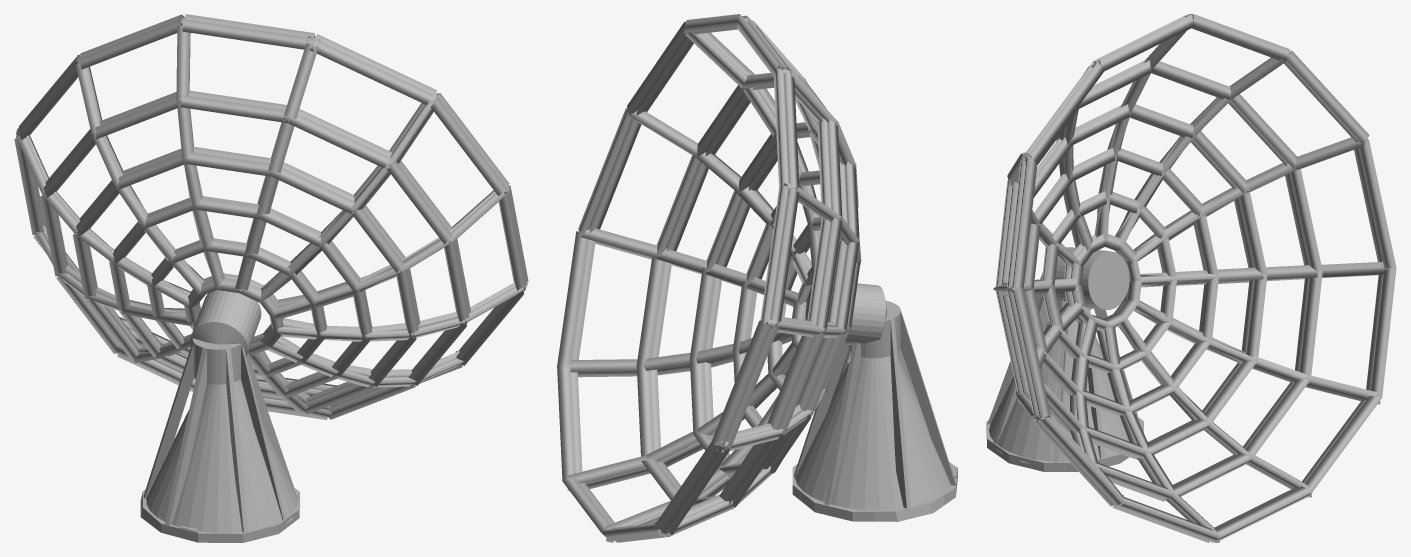
File: SmallBlockRadarRynAR_Constr2.fbx
3 views of the same model, side by side, from view 1: azimuth 30°, elevation 25°; view 2: azimuth 150°, elevation 25°; view 3: azimuth 270°, elevation 25° (orthographic). The views are drawn at different scales.
Parts seen in each view (by area): view 1: Cone; view 2: Cone; view 3: Cone.
Boxes of the visible parts, x1,y1,x2,y2 form: Cone: (14,14,528,542); Cone: (557,14,957,542); Cone: (986,14,1396,542).
Size of the model in its own units: 1.13 by 1.32 by 1.11.
